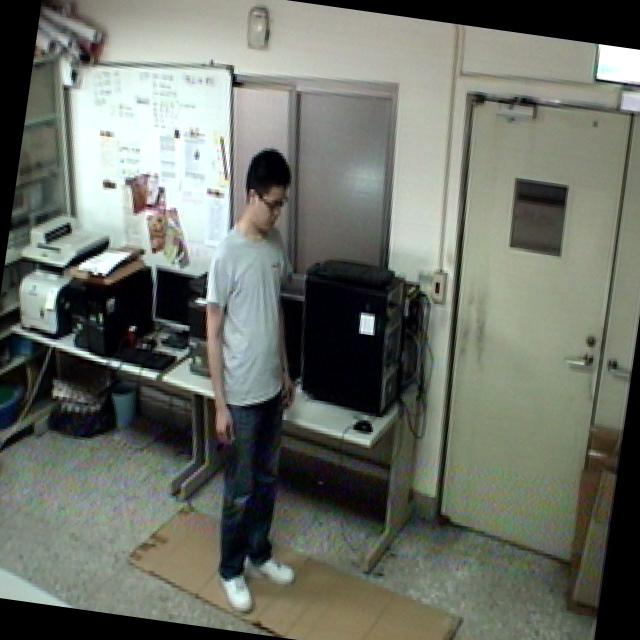stand: (158, 138, 367, 632)
